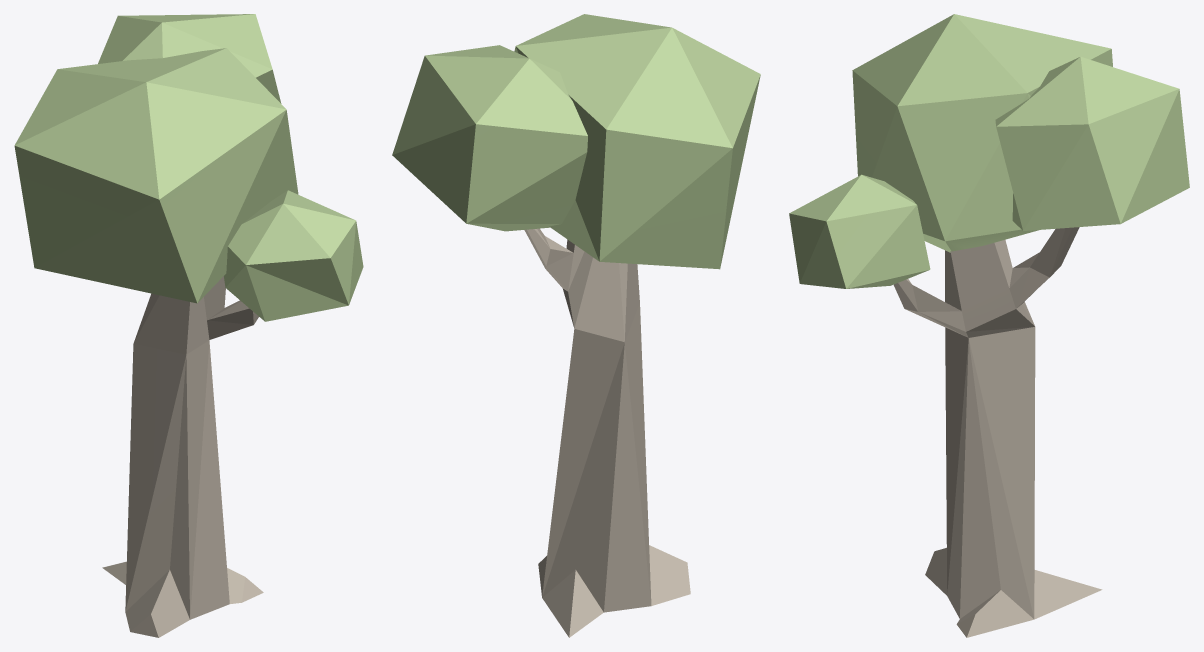
File: commonTree.fbx
3 renders of one model, left to right at view 1: azimuth 30°, elevation 25°; view 2: azimuth 150°, elevation 25°; view 3: azimuth 270°, elevation 25°, orthographic. The views are drawn at different scales.
Parts seen in each view (by area): view 1: Vegetation_Tree_Common_01, Vegetation_Tree_Common_01.001; view 2: Vegetation_Tree_Common_01, Vegetation_Tree_Common_01.001; view 3: Vegetation_Tree_Common_01, Vegetation_Tree_Common_01.001.
Part boxes in pixels (bbox=[...]): Vegetation_Tree_Common_01: bbox=[14, 14, 363, 321]; Vegetation_Tree_Common_01.001: bbox=[102, 276, 263, 637]; Vegetation_Tree_Common_01: bbox=[392, 14, 760, 269]; Vegetation_Tree_Common_01.001: bbox=[524, 228, 690, 637]; Vegetation_Tree_Common_01: bbox=[789, 14, 1189, 288]; Vegetation_Tree_Common_01.001: bbox=[893, 227, 1102, 637].
Size of the model in its own units: 244 by 445 by 288.
